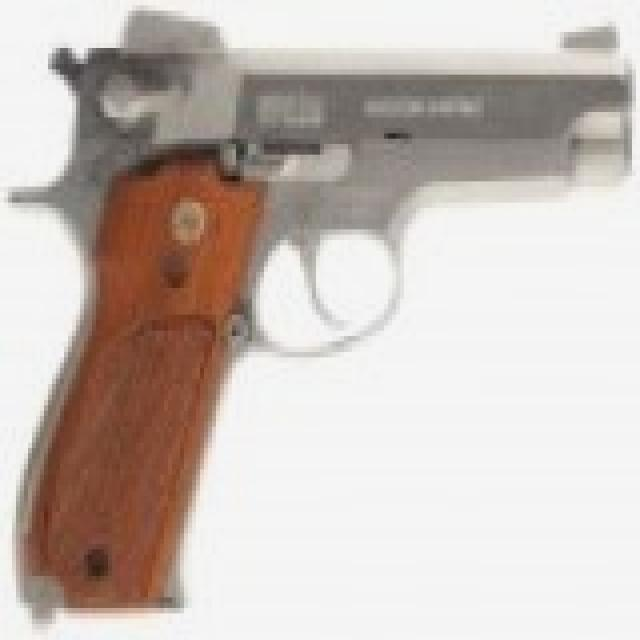pistol: (24, 0, 624, 608)
